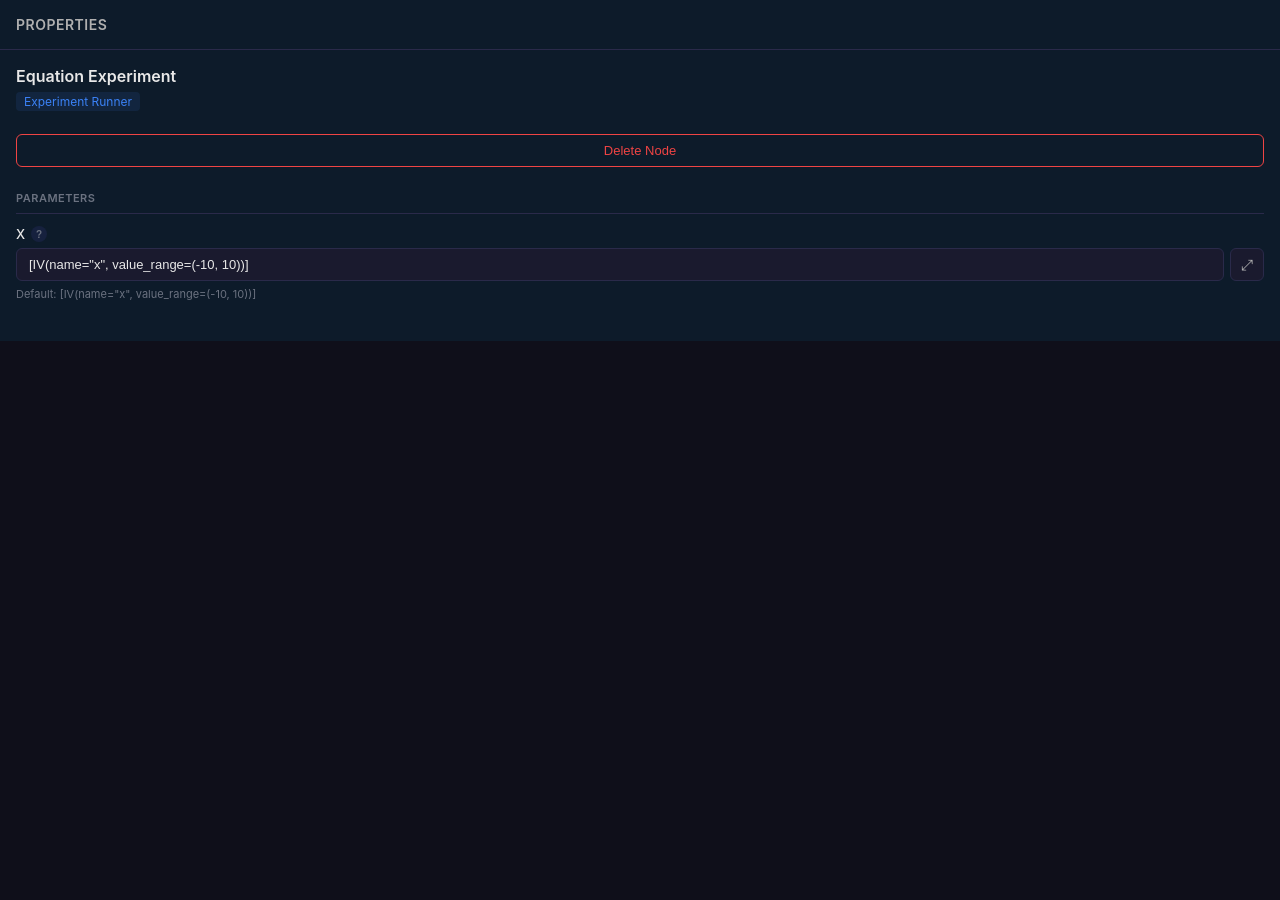
PropertiesPanel IV/DV expression editor › commits the edited value on Update and closes
The image size is (1280, 900).
Click the button named "Open a larger editor for X" at (1247, 264), box 1230,248 -> 1264,281
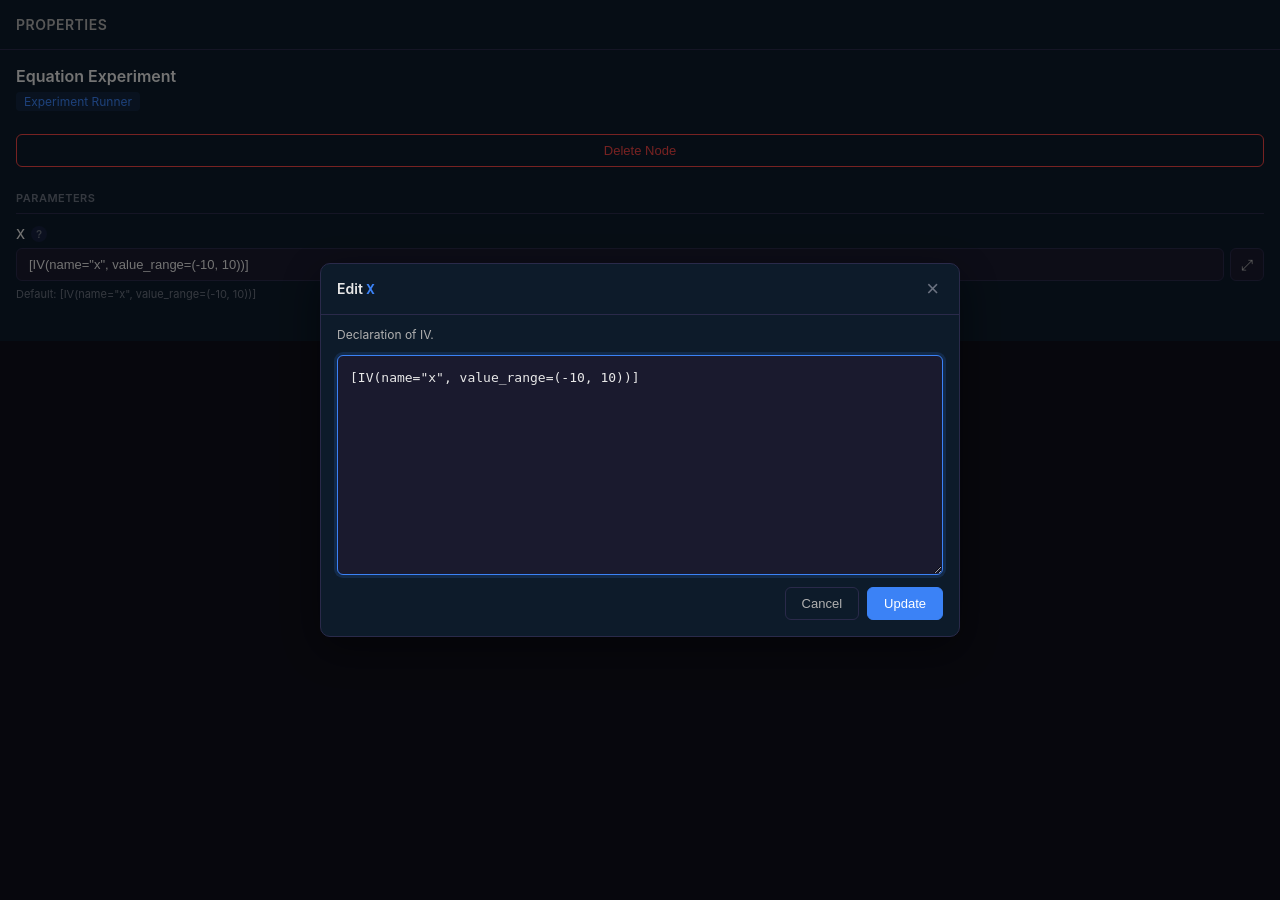
Type "[IV(name=\"a\", value_range=(0, 1))]" into the text box at (640, 465), box 337,355 -> 943,575
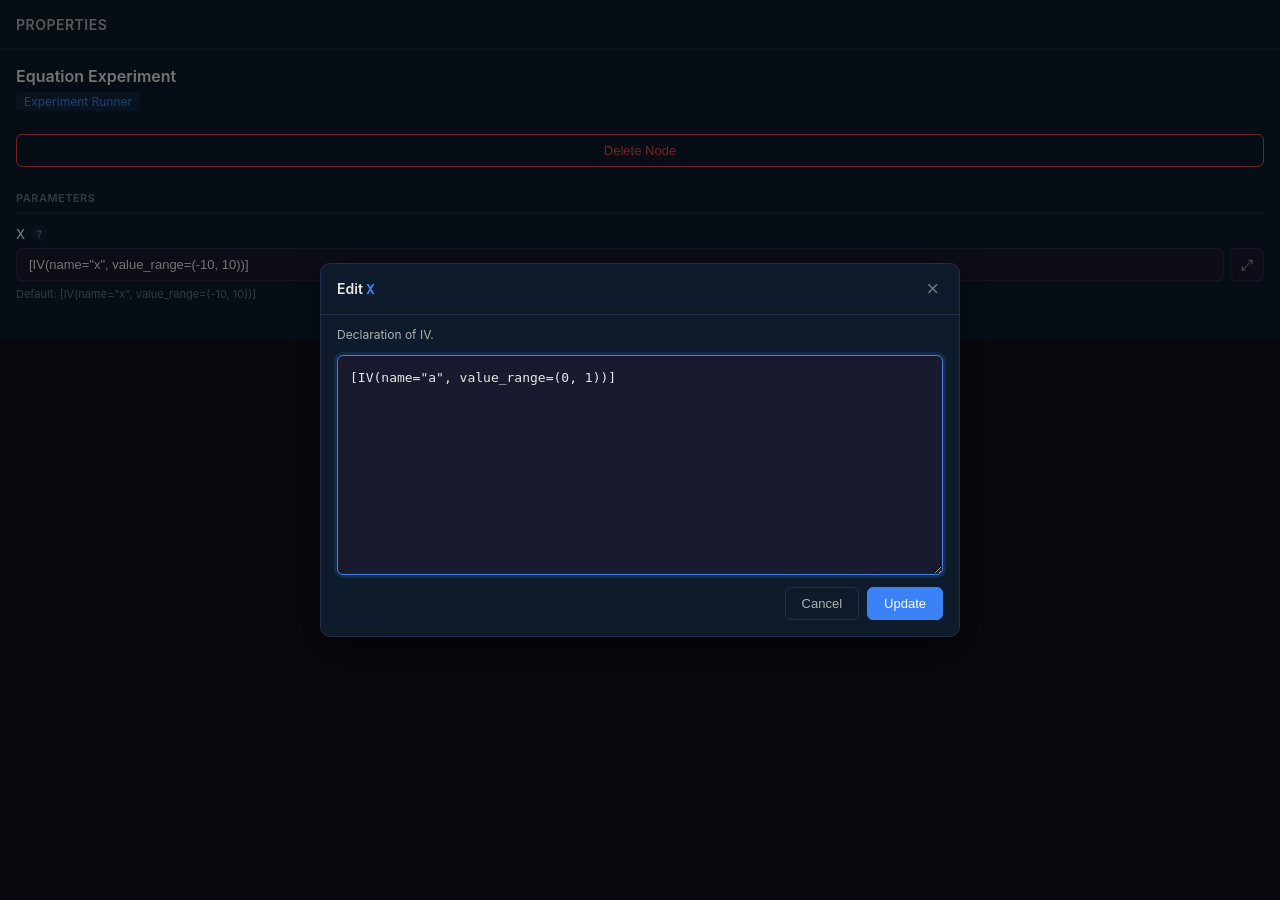
Click the button "Update" at (905, 604), box 867,587 -> 943,620
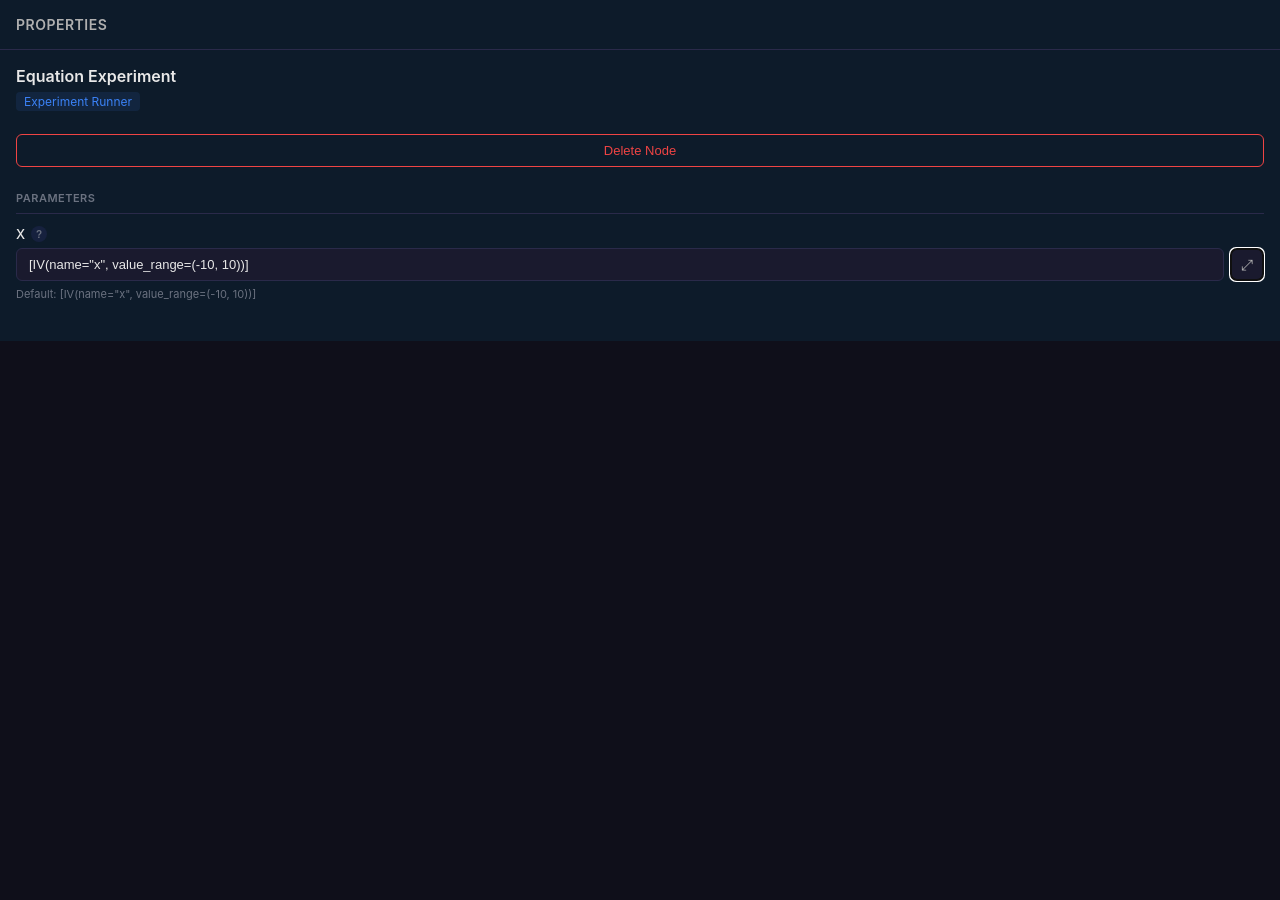
expect the dialog is gone: met
